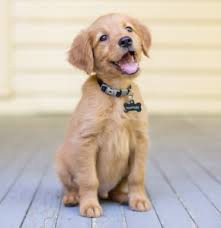dog_sitting: (53, 10, 154, 219)
